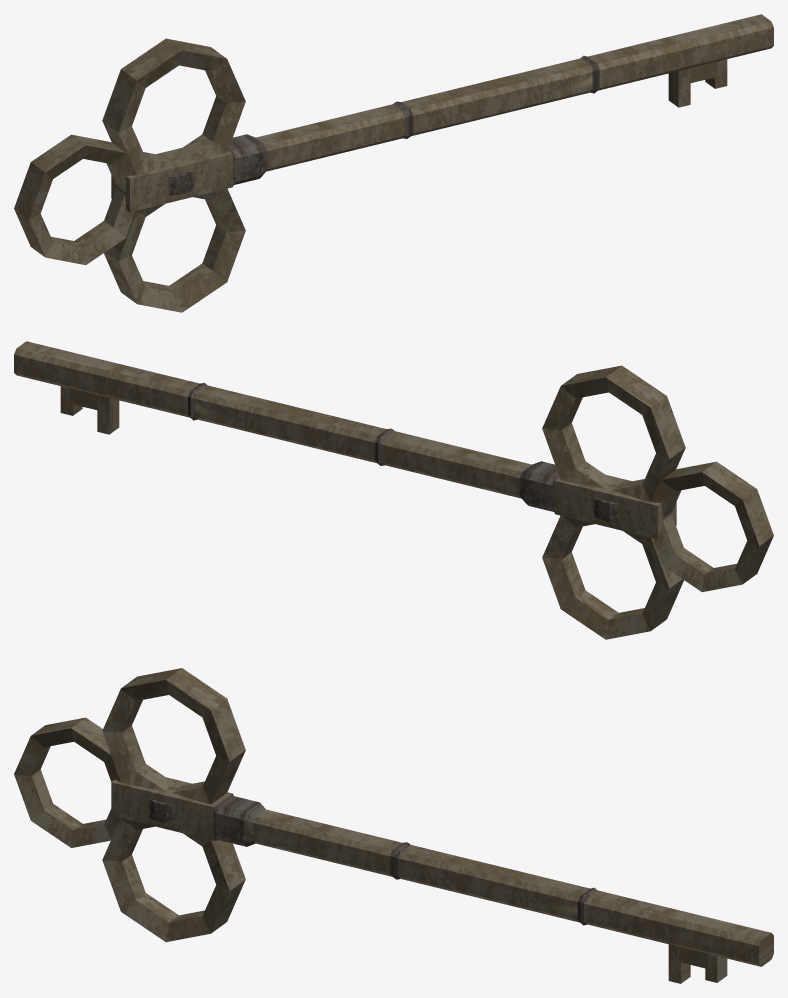
The model's file is Key.fbx.
The picture shows the model from 3 angles, top to bottom: view 1: azimuth 30°, elevation 25°; view 2: azimuth 150°, elevation 25°; view 3: azimuth 330°, elevation 25°; orthographic projection.
Visible parts, largest first — view 1: Torus.004; view 2: Torus.004; view 3: Torus.004.
Part boxes in pixels (x1,y1,x2,y2): Torus.004: (14,14,773,312); Torus.004: (14,341,773,639); Torus.004: (14,668,773,983).
Size of the model in its own units: 8.72 by 2.93 by 0.4619.
